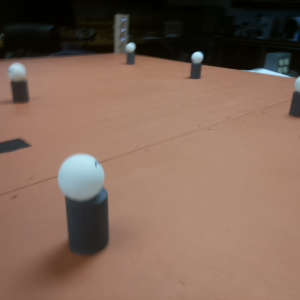corner: (113, 13, 127, 55)
obstacle: (58, 152, 113, 257), (10, 60, 27, 105), (288, 76, 300, 120), (190, 50, 202, 79), (126, 42, 135, 65)
start: (1, 129, 30, 160)
